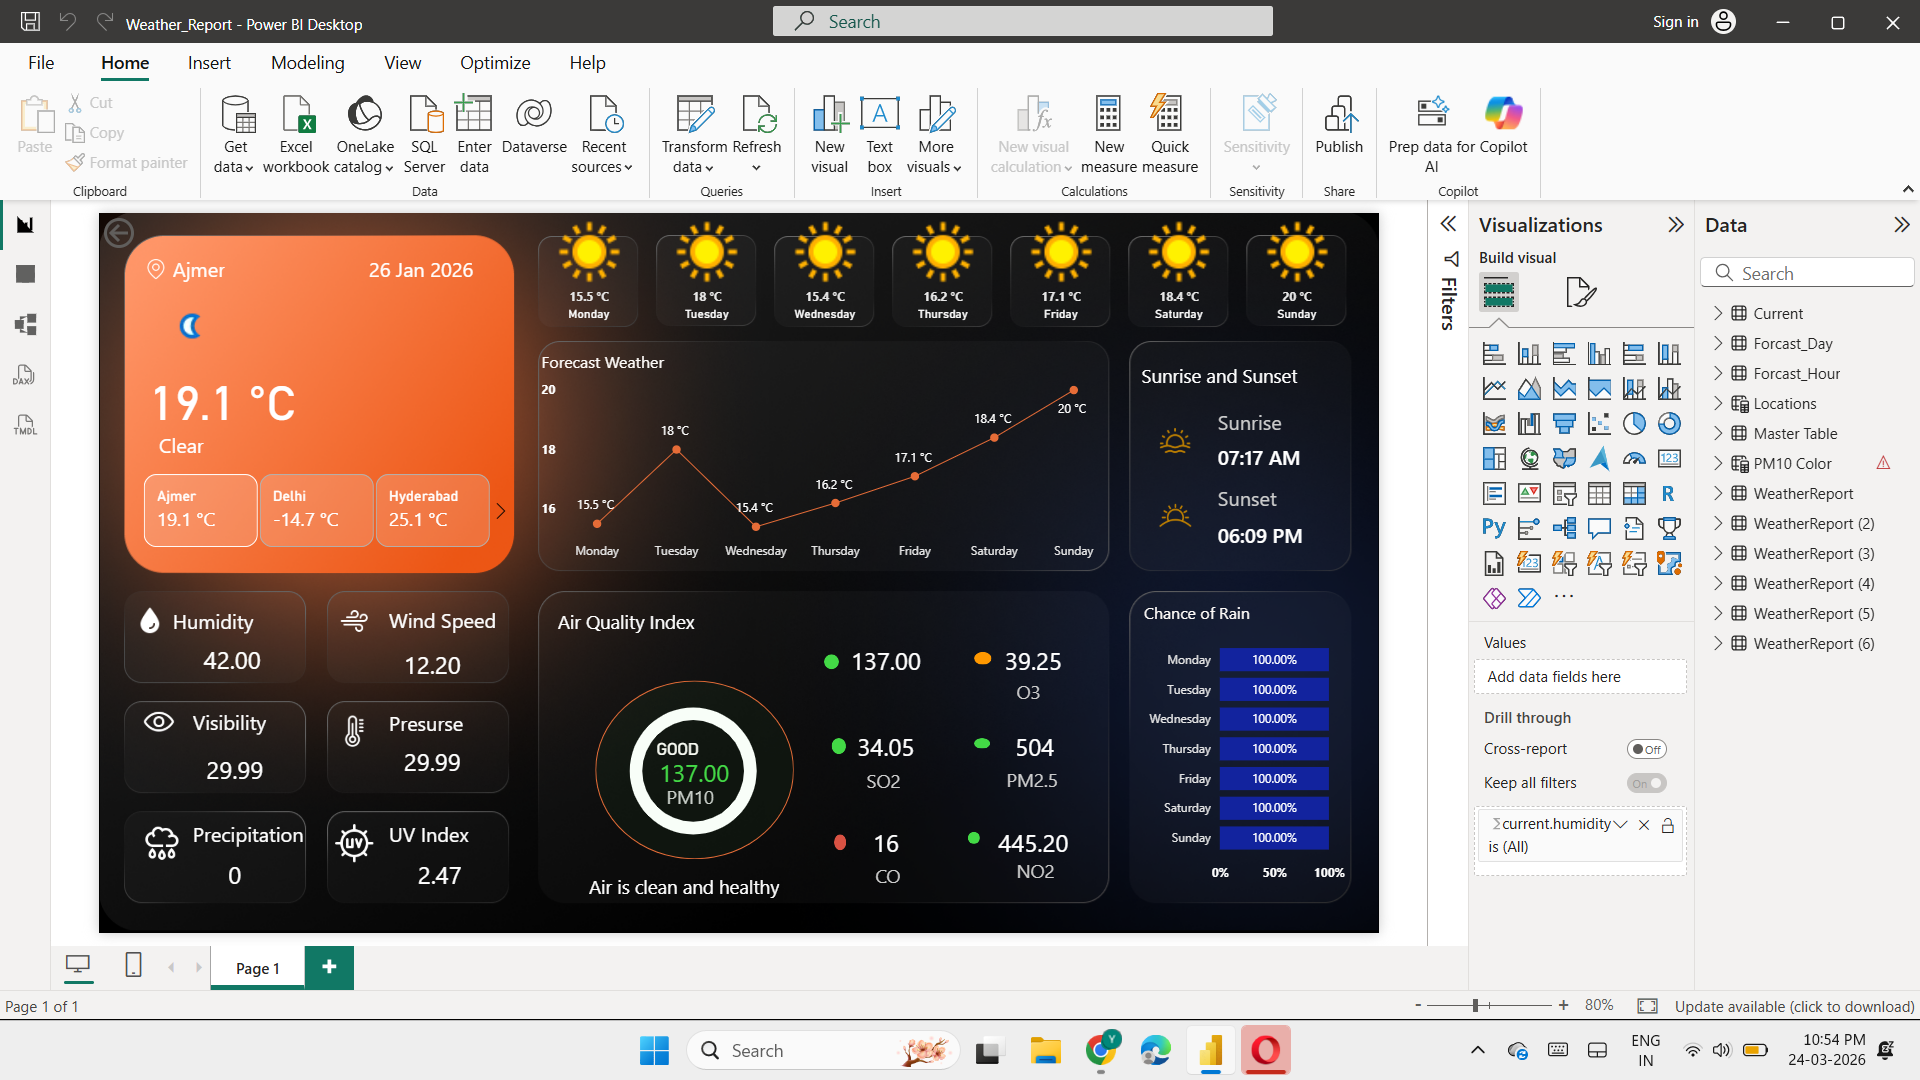

What the dashboard file says about the page in this screenshot:
{"tool":"powerbi","page":{"name":"Page 1","canvas":[1280,720],"ordinal":0},"visuals":[{"type":"lineChart","title":"Forecast Weather","fields":{"Y":["Sum(Forcast_Day.forecast.forecastday.day.avgtemp_c)"],"Category":["Forcast_Day.Day_Name"]},"box":[437.9,137.5,574.3,218.4],"z":0},{"type":"advancedSlicerVisual","fields":{"Values":["Locations.location.name"]},"box":[20.6,256.6,397.9,83.7],"z":1000},{"type":"cardVisual","fields":{"Data":["_Measures.Curr_Temp_c"]},"box":[32.9,137.2,279.9,81],"z":2000},{"type":"shape","box":[60.4,218.2,289.5,24.7],"z":3000},{"type":"shape","box":[73.6,41,159.3,30.2],"z":4000},{"type":"image","box":[32.6,41,49.5,30.2],"z":5000},{"type":"shape","box":[270.2,41,159.3,30.2],"z":6000},{"type":"cardVisual","fields":{"Data":["Min(Current.current.condition.icon)"]},"box":[32.9,56.3,115.3,109.8],"z":7000},{"type":"image","box":[37,485.8,45.3,45.3],"z":8000},{"type":"shape","box":[93.3,494,159.2,30.2],"z":9000},{"type":"image","box":[32.9,376,37,63.1],"z":10000},{"type":"image","box":[219.6,388.3,70,38.4],"z":11000},{"type":"image","box":[192.1,605.1,126.2,50.8],"z":12000},{"type":"image","box":[34.3,605.1,59,50.8],"z":13000},{"type":"image","box":[234.6,494,41.2,48],"z":14000},{"type":"shape","box":[289.5,391.1,159.2,31.6],"z":15000},{"type":"shape","box":[74.1,392.5,159.2,30.2],"z":16000},{"type":"shape","box":[93.3,605.1,159.2,31.6],"z":17000},{"type":"shape","box":[289.5,494,159.2,31.6],"z":18000},{"type":"shape","box":[289.5,605.1,159.2,31.6],"z":19000},{"type":"card","fields":{"Values":["Avg(Current.current.humidity)"]},"box":[90.5,422.3,86.9,50.7],"z":20000},{"type":"actionButton","box":[0,0,100,40],"z":21000},{"type":"card","fields":{"Values":["Sum(Forcast_Day.forecast.forecastday.day.totalprecip_in)"]},"box":[92.9,637,86.9,50.7],"z":22000},{"type":"card","fields":{"Values":["Avg(Current.current.pressure_in)"]},"box":[289.5,524.8,86.9,50.7],"z":23000},{"type":"card","fields":{"Values":["Avg(Current.current.wind_kph)"]},"box":[289.5,427.1,86.9,50.7],"z":24000},{"type":"card","fields":{"Values":["Avg(Forcast_Day.forecast.forecastday.day.uv)"]},"box":[298,637,86.9,50.7],"z":25000},{"type":"card","fields":{"Values":["Avg(Current.current.pressure_in)"]},"box":[92.9,532,86.9,50.7],"z":26000},{"type":"advancedSlicerVisual","fields":{"Values":["Forcast_Day.Day_Name"]},"box":[429.5,0,830,125.5],"z":27000},{"type":"shape","box":[1042.4,147.2,159.3,30.2],"z":28000},{"type":"shape","box":[1118.9,224.4,114.6,37.4],"z":29000},{"type":"shape","box":[1118.9,302.8,114.6,37.4],"z":30000},{"type":"shape","box":[1118.9,194.2,103.8,30.2],"z":31000},{"type":"shape","box":[1118.9,266.6,88.1,36.2],"z":32000},{"type":"image","box":[1040,276.3,72.4,51.9],"z":33000},{"type":"image","box":[1042.4,207.5,67.6,39.8],"z":34000},{"type":"hundredPercentStackedBarChart","title":"Chance of Rain","fields":{"Y":["Sum(Forcast_Day.forecast.forecastday.day.daily_chance_of_rain)","_Measures.Left_Value_Rain"],"Category":["Forcast_Day.Day_Name"]},"box":[1040,388.5,211.1,289.5],"z":35000},{"type":"shape","box":[458.4,393.3,159.3,30.2],"z":36000},{"type":"card","fields":{"Values":["Avg(Current.current.air_quality.pm10)"]},"box":[891.6,423.5,86.9,50.7],"z":37000},{"type":"card","fields":{"Values":["Avg(Current.current.air_quality.so2)"]},"box":[743.2,605.6,86.9,50.7],"z":38000},{"type":"card","fields":{"Values":["Sum(Current.current.air_quality.no2)"]},"box":[891.6,605.6,86.9,50.7],"z":39000},{"type":"card","fields":{"Values":["Avg(Current.current.air_quality.pm2_5)"]},"box":[743.2,510.3,86.9,50.7],"z":40000},{"type":"card","fields":{"Values":["Sum(Current.current.air_quality.gb-defra-index)"]},"box":[892.8,510.3,86.9,50.7],"z":41000},{"type":"card","fields":{"Values":["Avg(Current.current.air_quality.o3)"]},"box":[743.2,423.5,86.9,50.7],"z":42000},{"type":"shape","box":[916.9,460.9,38.6,33.8],"z":43000},{"type":"shape","box":[907.2,548.9,71.2,33.8],"z":44000},{"type":"shape","box":[916.9,639.4,38.6,33.8],"z":45000},{"type":"shape","box":[568,566,53,34],"z":46000},{"type":"shape","box":[767.3,550.1,38.6,33.8],"z":47000},{"type":"shape","box":[775.7,645.4,35,33.8],"z":48000},{"type":"shape","box":[725,441.1,15,15],"z":49000},{"type":"shape","box":[732.3,525.4,14.6,16.2],"z":50000},{"type":"shape","box":[734.6,620.8,12.3,16.2],"z":51000},{"type":"shape","box":[875.4,439.2,17.7,13.1],"z":52000},{"type":"shape","box":[875.4,524.6,16.2,10.8],"z":53000},{"type":"shape","box":[869.2,618.5,12.3,12.3],"z":54000},{"type":"card","fields":{"Values":["Avg(Current.current.air_quality.o3)"]},"box":[552,526,86,50],"z":55000},{"type":"donutChart","fields":{"Y":["Current.Left_value_PM10","Avg(Current.current.air_quality.o3)"]},"box":[510,472.5,168.8,171.2],"z":56000},{"type":"shape","box":[496.2,467.5,198.8,178.8],"z":57000},{"type":"shape","box":[490,656.2,487.5,35],"z":57001}]}

Visuals, with their boxes on the page's 1280x720 design canvas (x1, y1, x2, y2). These are canvas units, not pixel positions in the 1920x1080 screenshot, which may show the page scaled, cropped or inside an application window:
"Forecast Weather" lineChart: left=438, top=138, right=1012, bottom=356
advancedSlicerVisual - Locations.location.name: left=21, top=257, right=418, bottom=340
cardVisual - _Measures.Curr_Temp_c: left=33, top=137, right=313, bottom=218
shape: left=60, top=218, right=350, bottom=243
shape: left=74, top=41, right=233, bottom=71
image: left=33, top=41, right=82, bottom=71
shape: left=270, top=41, right=430, bottom=71
cardVisual - Min(Current.current.condition.icon): left=33, top=56, right=148, bottom=166
image: left=37, top=486, right=82, bottom=531
shape: left=93, top=494, right=252, bottom=524
image: left=33, top=376, right=70, bottom=439
image: left=220, top=388, right=290, bottom=427
image: left=192, top=605, right=318, bottom=656
image: left=34, top=605, right=93, bottom=656
image: left=235, top=494, right=276, bottom=542
shape: left=290, top=391, right=449, bottom=423
shape: left=74, top=392, right=233, bottom=423
shape: left=93, top=605, right=252, bottom=637
shape: left=290, top=494, right=449, bottom=526
shape: left=290, top=605, right=449, bottom=637
card - Avg(Current.current.humidity): left=90, top=422, right=177, bottom=473
actionButton: left=0, top=0, right=100, bottom=40
card - Sum(Forcast_Day.forecast.forecastday.day.totalprecip_in): left=93, top=637, right=180, bottom=688
card - Avg(Current.current.pressure_in): left=290, top=525, right=376, bottom=576
card - Avg(Current.current.wind_kph): left=290, top=427, right=376, bottom=478
card - Avg(Forcast_Day.forecast.forecastday.day.uv): left=298, top=637, right=385, bottom=688
card - Avg(Current.current.pressure_in): left=93, top=532, right=180, bottom=583
advancedSlicerVisual - Forcast_Day.Day_Name: left=430, top=0, right=1260, bottom=126
shape: left=1042, top=147, right=1202, bottom=177
shape: left=1119, top=224, right=1234, bottom=262
shape: left=1119, top=303, right=1234, bottom=340
shape: left=1119, top=194, right=1223, bottom=224
shape: left=1119, top=267, right=1207, bottom=303
image: left=1040, top=276, right=1112, bottom=328
image: left=1042, top=208, right=1110, bottom=247
"Chance of Rain" hundredPercentStackedBarChart: left=1040, top=388, right=1251, bottom=678
shape: left=458, top=393, right=618, bottom=424
card - Avg(Current.current.air_quality.pm10): left=892, top=424, right=978, bottom=474
card - Avg(Current.current.air_quality.so2): left=743, top=606, right=830, bottom=656
card - Sum(Current.current.air_quality.no2): left=892, top=606, right=978, bottom=656
card - Avg(Current.current.air_quality.pm2_5): left=743, top=510, right=830, bottom=561
card - Sum(Current.current.air_quality.gb-defra-index): left=893, top=510, right=980, bottom=561
card - Avg(Current.current.air_quality.o3): left=743, top=424, right=830, bottom=474
shape: left=917, top=461, right=956, bottom=495
shape: left=907, top=549, right=978, bottom=583
shape: left=917, top=639, right=956, bottom=673
shape: left=568, top=566, right=621, bottom=600
shape: left=767, top=550, right=806, bottom=584
shape: left=776, top=645, right=811, bottom=679
shape: left=725, top=441, right=740, bottom=456
shape: left=732, top=525, right=747, bottom=542
shape: left=735, top=621, right=747, bottom=637
shape: left=875, top=439, right=893, bottom=452
shape: left=875, top=525, right=892, bottom=535
shape: left=869, top=618, right=882, bottom=631
card - Avg(Current.current.air_quality.o3): left=552, top=526, right=638, bottom=576
donutChart - Current.Left_value_PM10 x Avg(Current.current.air_quality.o3): left=510, top=472, right=679, bottom=644
shape: left=496, top=468, right=695, bottom=646
shape: left=490, top=656, right=978, bottom=691
